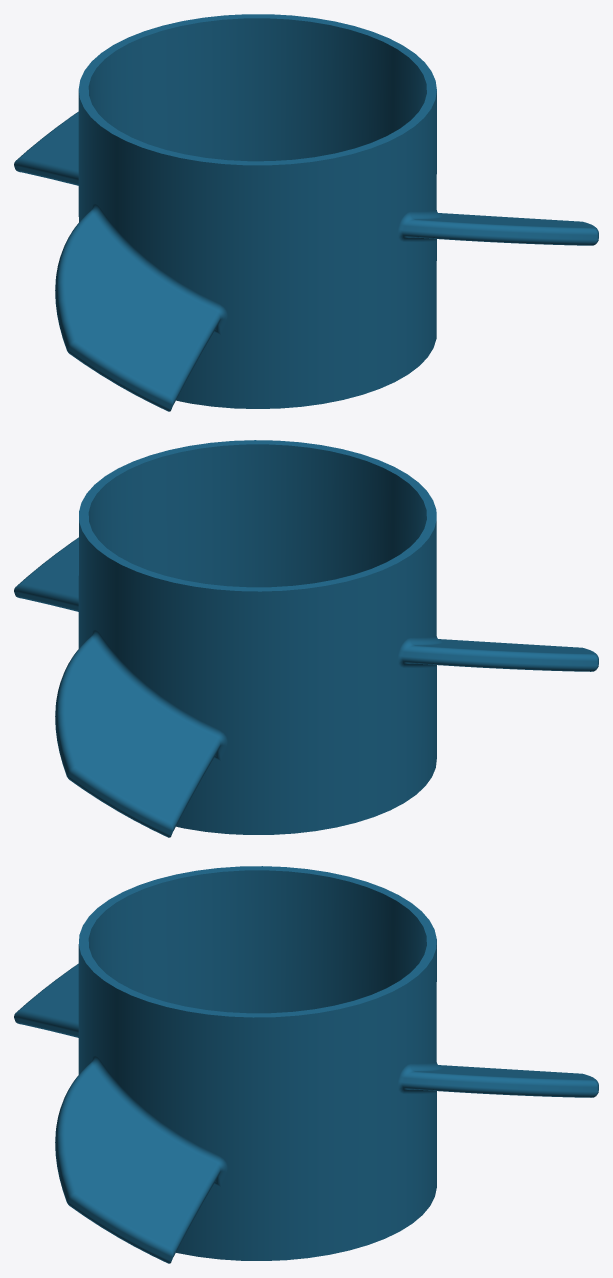
Rendered from cw_prop_mesh.obj.
3 views of the same model, one above another, from view 1: azimuth 30°, elevation 25°; view 2: azimuth 150°, elevation 25°; view 3: azimuth 270°, elevation 25° (orthographic).
Parts seen in each view (by area): view 1: obj1; view 2: obj1; view 3: obj1.
Part boxes in pixels (x1,y1,x2,y2): obj1: [14, 14, 598, 411]; obj1: [14, 440, 598, 837]; obj1: [14, 866, 598, 1263].
Bounding box in the file's own units: 0.0711 × 0.03 × 0.0653.
